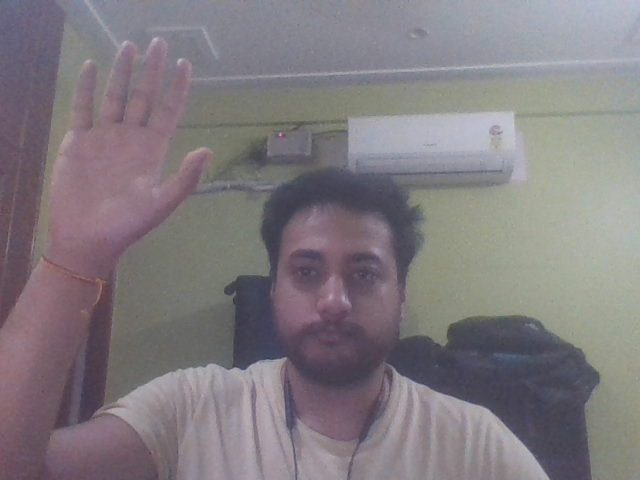Hello: (18, 22, 233, 295)
